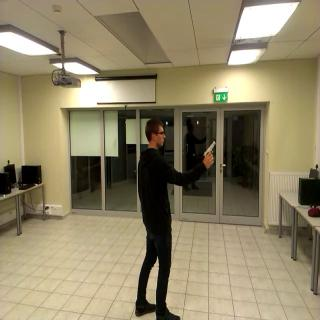gun: (199, 135, 217, 164)
